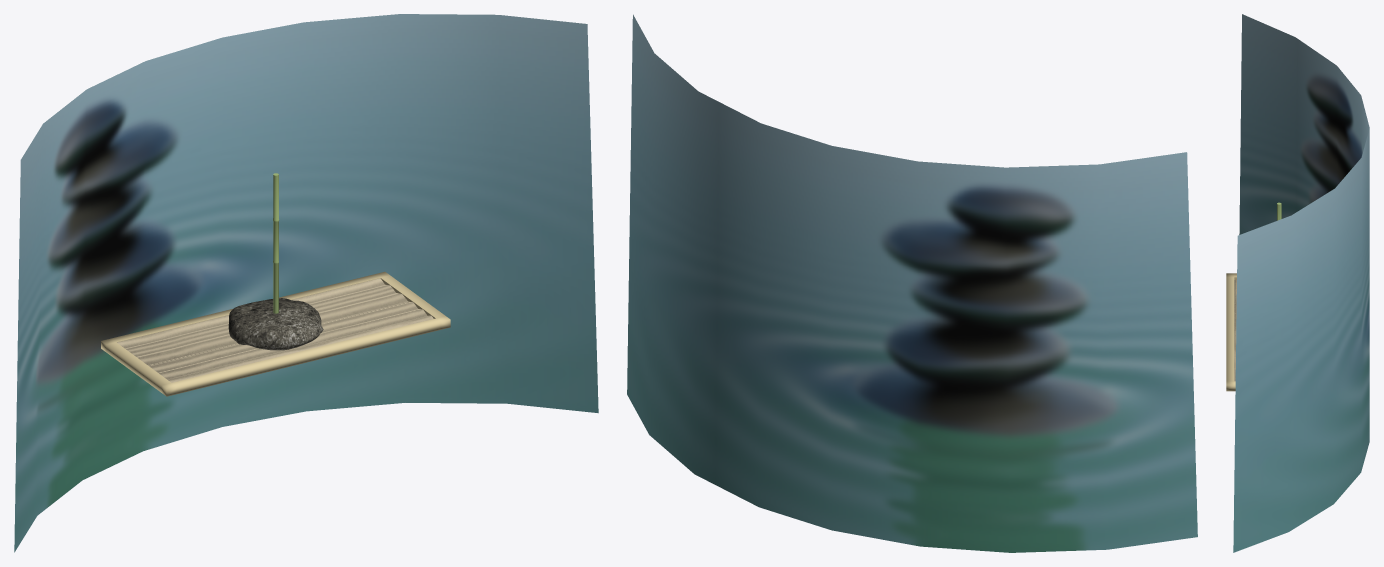
File: Zen.fbx
3 views of the same model, side by side, from view 1: azimuth 30°, elevation 25°; view 2: azimuth 150°, elevation 25°; view 3: azimuth 270°, elevation 25° (orthographic). The views are drawn at different scales.
Parts seen in each view (by area): view 1: Zen_Env, Zen_Base, Zen_Disc, Zen_Staff; view 2: Zen_Env; view 3: Zen_Env, Zen_Base.
Boxes of the visible parts, x1,y1,x2,y2 form: Zen_Env: [14, 14, 598, 552]; Zen_Base: [101, 271, 450, 396]; Zen_Disc: [228, 298, 323, 350]; Zen_Staff: [273, 173, 279, 313]; Zen_Env: [627, 14, 1197, 552]; Zen_Env: [1233, 14, 1369, 552]; Zen_Base: [1226, 273, 1236, 391].
Size of the model in its own units: 35.95 by 23.28 by 9.53.
